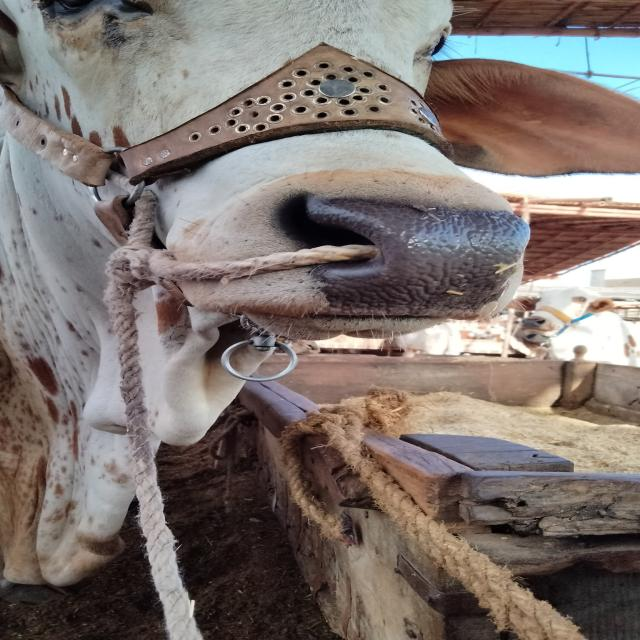muzzles: (252, 181, 536, 323)
